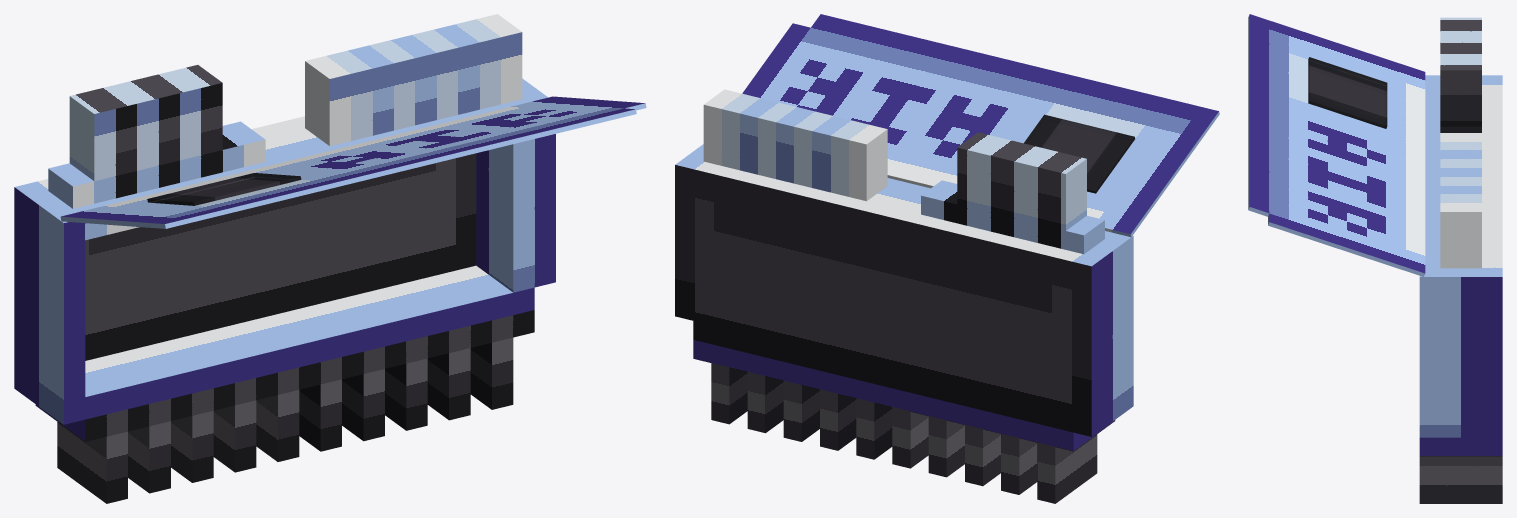
Rendered from air_alarm_frame.glb.
3 renders of one model, left to right at view 1: azimuth 30°, elevation 25°; view 2: azimuth 150°, elevation 25°; view 3: azimuth 270°, elevation 25°, orthographic. The views are drawn at different scales.
Visible parts, largest first — view 1: Lined_Housing, Lower_Vent_Fins, Upper_Sensor_Terminals, Upper_Connector, AIR_Front_Cover, Display_Glass; view 2: Lined_Housing, AIR_Front_Cover, Lower_Vent_Fins, Upper_Sensor_Terminals, Upper_Connector, Display_Glass; view 3: AIR_Front_Cover, Lined_Housing, Upper_Connector, Lower_Vent_Fins, Upper_Sensor_Terminals, Display_Glass.
Part boxes in pixels (x1=…): Lined_Housing: x1=14, y1=78, x2=555, y2=424; Lower_Vent_Fins: x1=35, y1=310, x2=534, y2=503; Upper_Sensor_Terminals: x1=48, y1=65, x2=265, y2=208; Upper_Connector: x1=305, y1=14, x2=522, y2=145; AIR_Front_Cover: x1=60, y1=96, x2=646, y2=228; Display_Glass: x1=147, y1=173, x2=301, y2=205; Lined_Housing: x1=675, y1=144, x2=1133, y2=436; AIR_Front_Cover: x1=742, y1=14, x2=1219, y2=237; Lower_Vent_Fins: x1=693, y1=340, x2=1115, y2=503; Upper_Sensor_Terminals: x1=921, y1=132, x2=1104, y2=254; Upper_Connector: x1=703, y1=89, x2=887, y2=201; Display_Glass: x1=1024, y1=114, x2=1135, y2=193; AIR_Front_Cover: x1=1248, y1=14, x2=1425, y2=276; Lined_Housing: x1=1419, y1=75, x2=1502, y2=437; Upper_Connector: x1=1440, y1=133, x2=1481, y2=268; Lower_Vent_Fins: x1=1419, y1=437, x2=1502, y2=503; Upper_Sensor_Terminals: x1=1440, y1=17, x2=1481, y2=132; Display_Glass: x1=1308, y1=57, x2=1387, y2=128.
Size of the model in its own units: 0.6469 by 0.4781 by 0.3447.
Materials: 2 (2 with a texture image).
